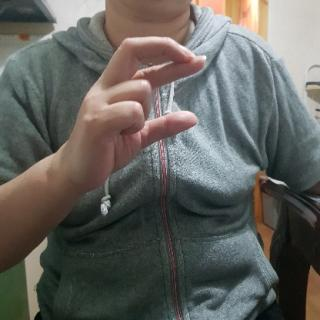DHELL: (55, 28, 214, 196)
